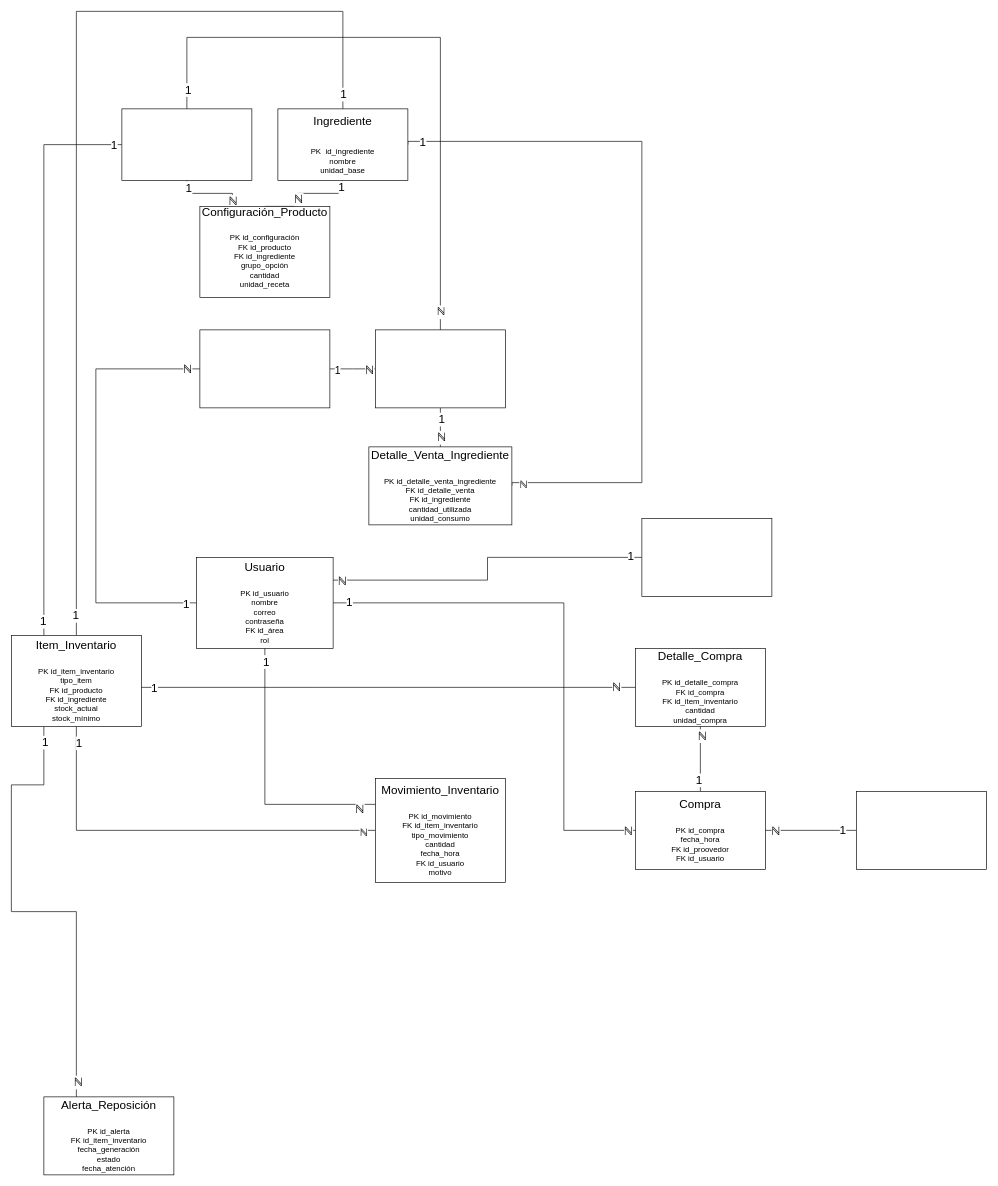
Image size: 998x1186. Some labels were removed from this diagram. The shapes that lost their labels are listed below. From the top down, each one's centre as x and y in pixels, then its label:
At point 186,144: "Producto PK id_producto nombre precio".
At point 264,368: "Venta PK id_venta fecha_hora FK id_usuario".
At point 440,368: "Detalle_Venta PK id_detalle_venta FK id_venta FK id_producto cantidad".
At point 706,557: "Área PK id_área nombre_área".
At point 921,830: "Proveedor PK id_proveedor nombre telefono_proveedor correo_proveedor".
